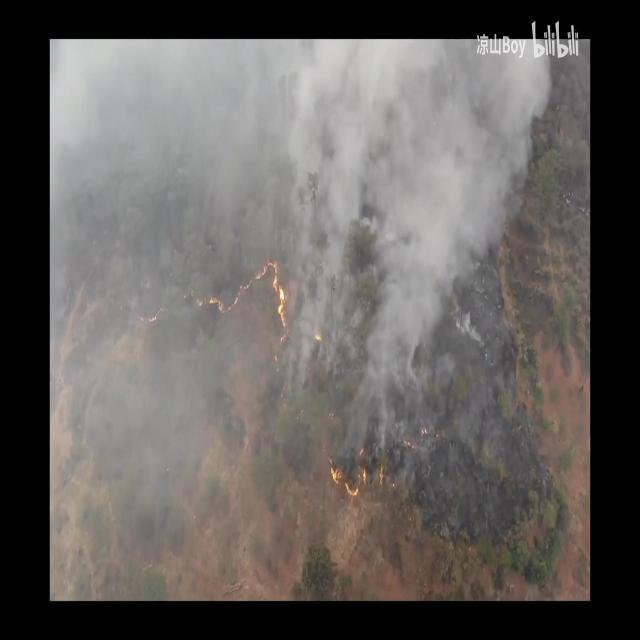Fire: (196, 258, 290, 344), (328, 446, 368, 498), (147, 306, 167, 325), (314, 325, 324, 345), (378, 464, 386, 487)
Smoke: (49, 41, 554, 550)
